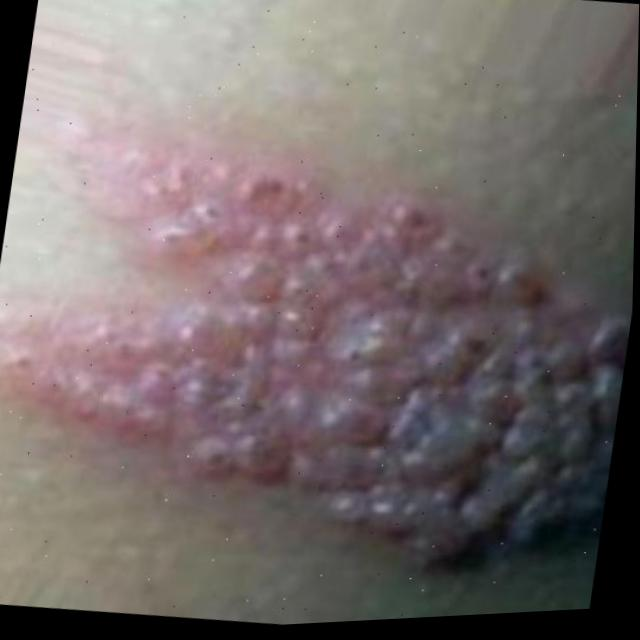Shingles: (0, 110, 637, 602)
